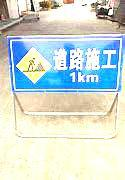sign: (8, 36, 122, 91)
